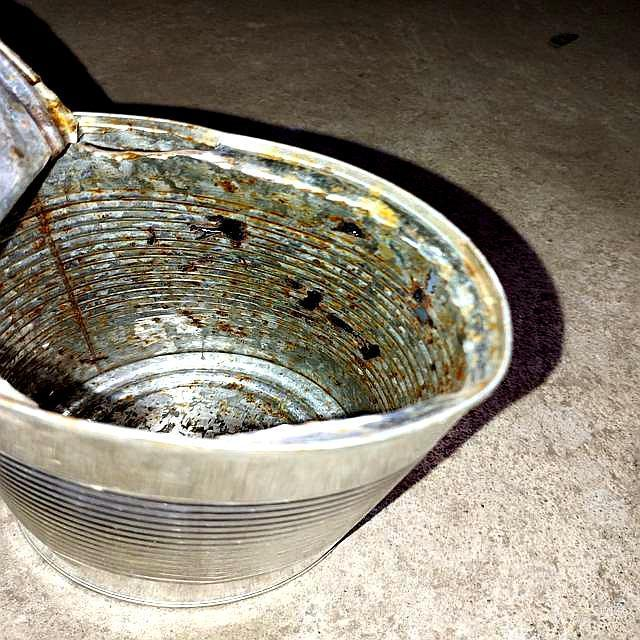Non-biodegradable: (1, 35, 517, 623)
